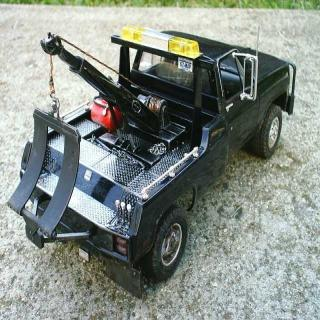Towing_truck: (7, 22, 297, 298)
